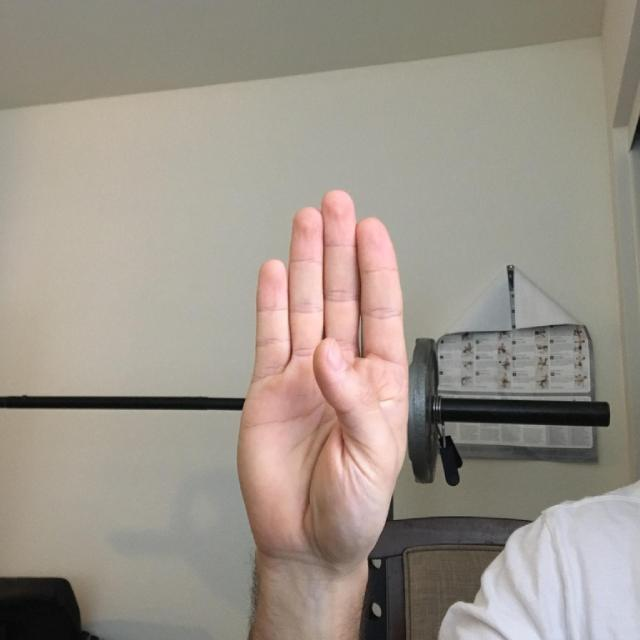B: (232, 172, 433, 588)
